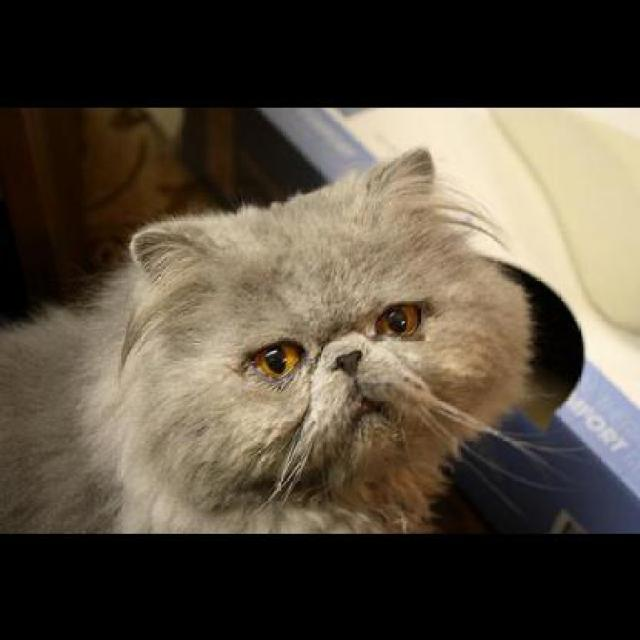unauthorized: (0, 144, 585, 534)
